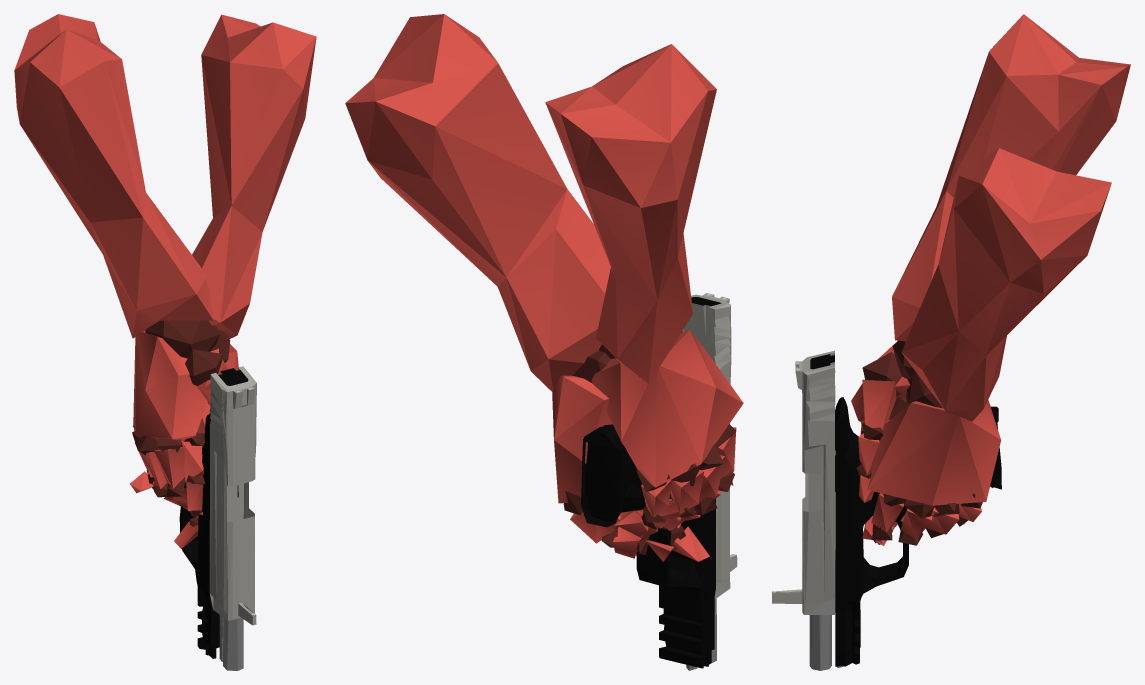
File: M&P9shootLowP_000103.obj
The picture shows the model from 3 angles, left to right: view 1: azimuth 30°, elevation 25°; view 2: azimuth 150°, elevation 25°; view 3: azimuth 270°, elevation 25°; orthographic projection. The views are drawn at different scales.
Visible parts, largest first — view 1: Beta_Surface.001_Beta_Surface.002, slide_平面.002, Beta_Joints.001_Beta_Joints.002, triger_平面.001; view 2: Beta_Surface.001_Beta_Surface.002, triger_平面.001, slide_平面.002, Beta_Joints.001_Beta_Joints.002, magazine_平面.003; view 3: Beta_Surface.001_Beta_Surface.002, triger_平面.001, slide_平面.002, Beta_Joints.001_Beta_Joints.002.
Boxes of the visible parts, bbox=[...] form: Beta_Surface.001_Beta_Surface.002: bbox=[14, 14, 316, 548]; slide_平面.002: bbox=[209, 366, 256, 625]; Beta_Joints.001_Beta_Joints.002: bbox=[132, 320, 230, 534]; triger_平面.001: bbox=[179, 413, 243, 670]; Beta_Surface.001_Beta_Surface.002: bbox=[345, 14, 743, 561]; triger_平面.001: bbox=[583, 424, 716, 670]; slide_平面.002: bbox=[682, 293, 737, 599]; Beta_Joints.001_Beta_Joints.002: bbox=[563, 331, 736, 554]; magazine_平面.003: bbox=[581, 439, 621, 527]; Beta_Surface.001_Beta_Surface.002: bbox=[851, 14, 1130, 545]; triger_平面.001: bbox=[809, 397, 998, 670]; slide_平面.002: bbox=[772, 350, 835, 614]; Beta_Joints.001_Beta_Joints.002: bbox=[856, 340, 982, 545].
Bounding box in the file's own units: 40.54 × 80.43 × 42.48.
